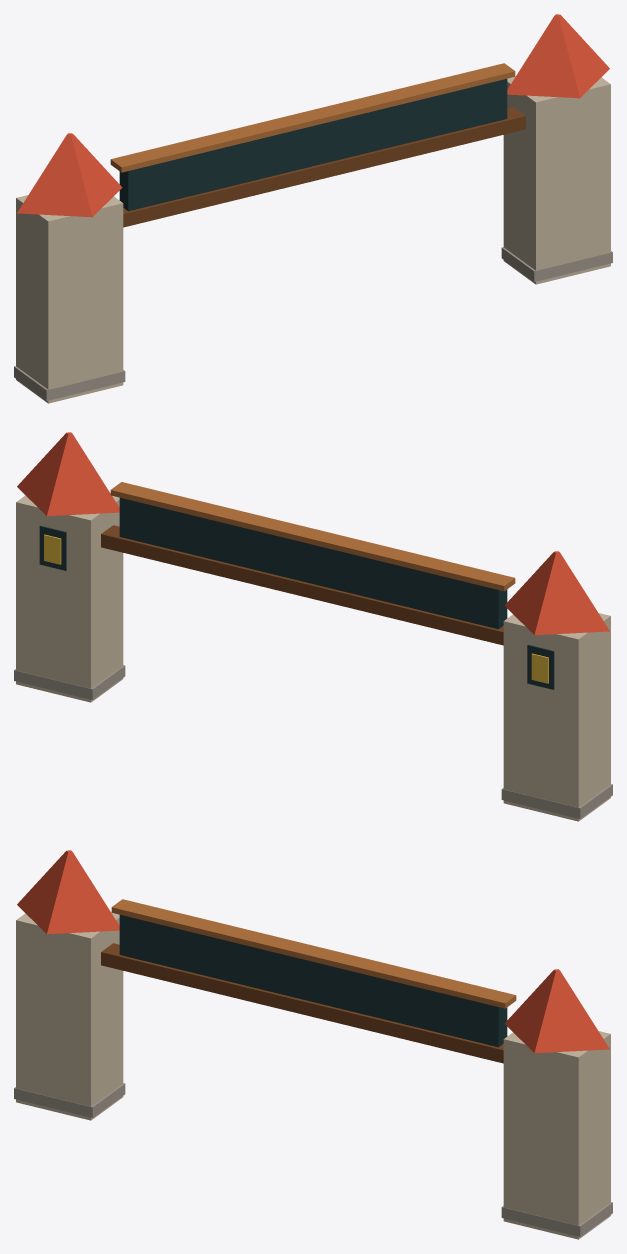
The model's file is entrance_gate_arch.fbx.
3 renders of one model, top to bottom at view 1: azimuth 30°, elevation 25°; view 2: azimuth 150°, elevation 25°; view 3: azimuth 330°, elevation 25°, orthographic.
Visible parts, largest first — view 1: entrance_gate_arch; view 2: entrance_gate_arch; view 3: entrance_gate_arch.
Part boxes in pixels (box(x1,y1,x2,y2)): entrance_gate_arch: box(14, 14, 612, 403); entrance_gate_arch: box(14, 432, 612, 821); entrance_gate_arch: box(14, 850, 612, 1239).
Bounding box in the file's own units: 30 × 12 × 4.
